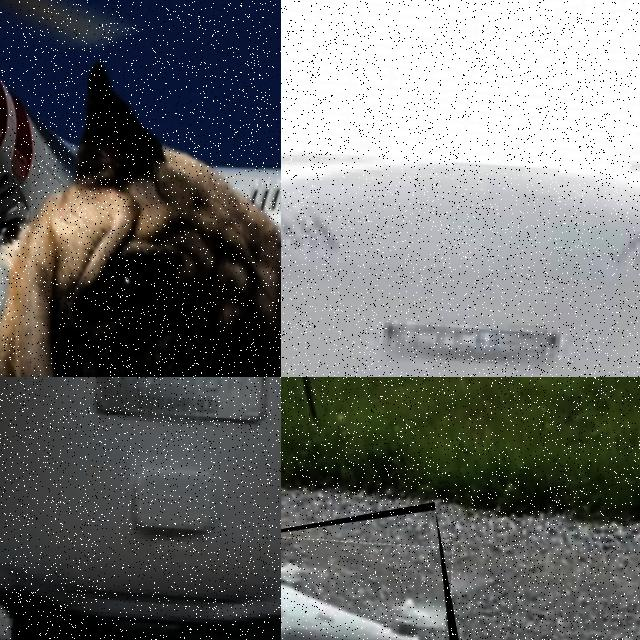0: (0, 377, 281, 640), (281, 501, 480, 640)
drone: (281, 0, 640, 377), (0, 0, 281, 377)
